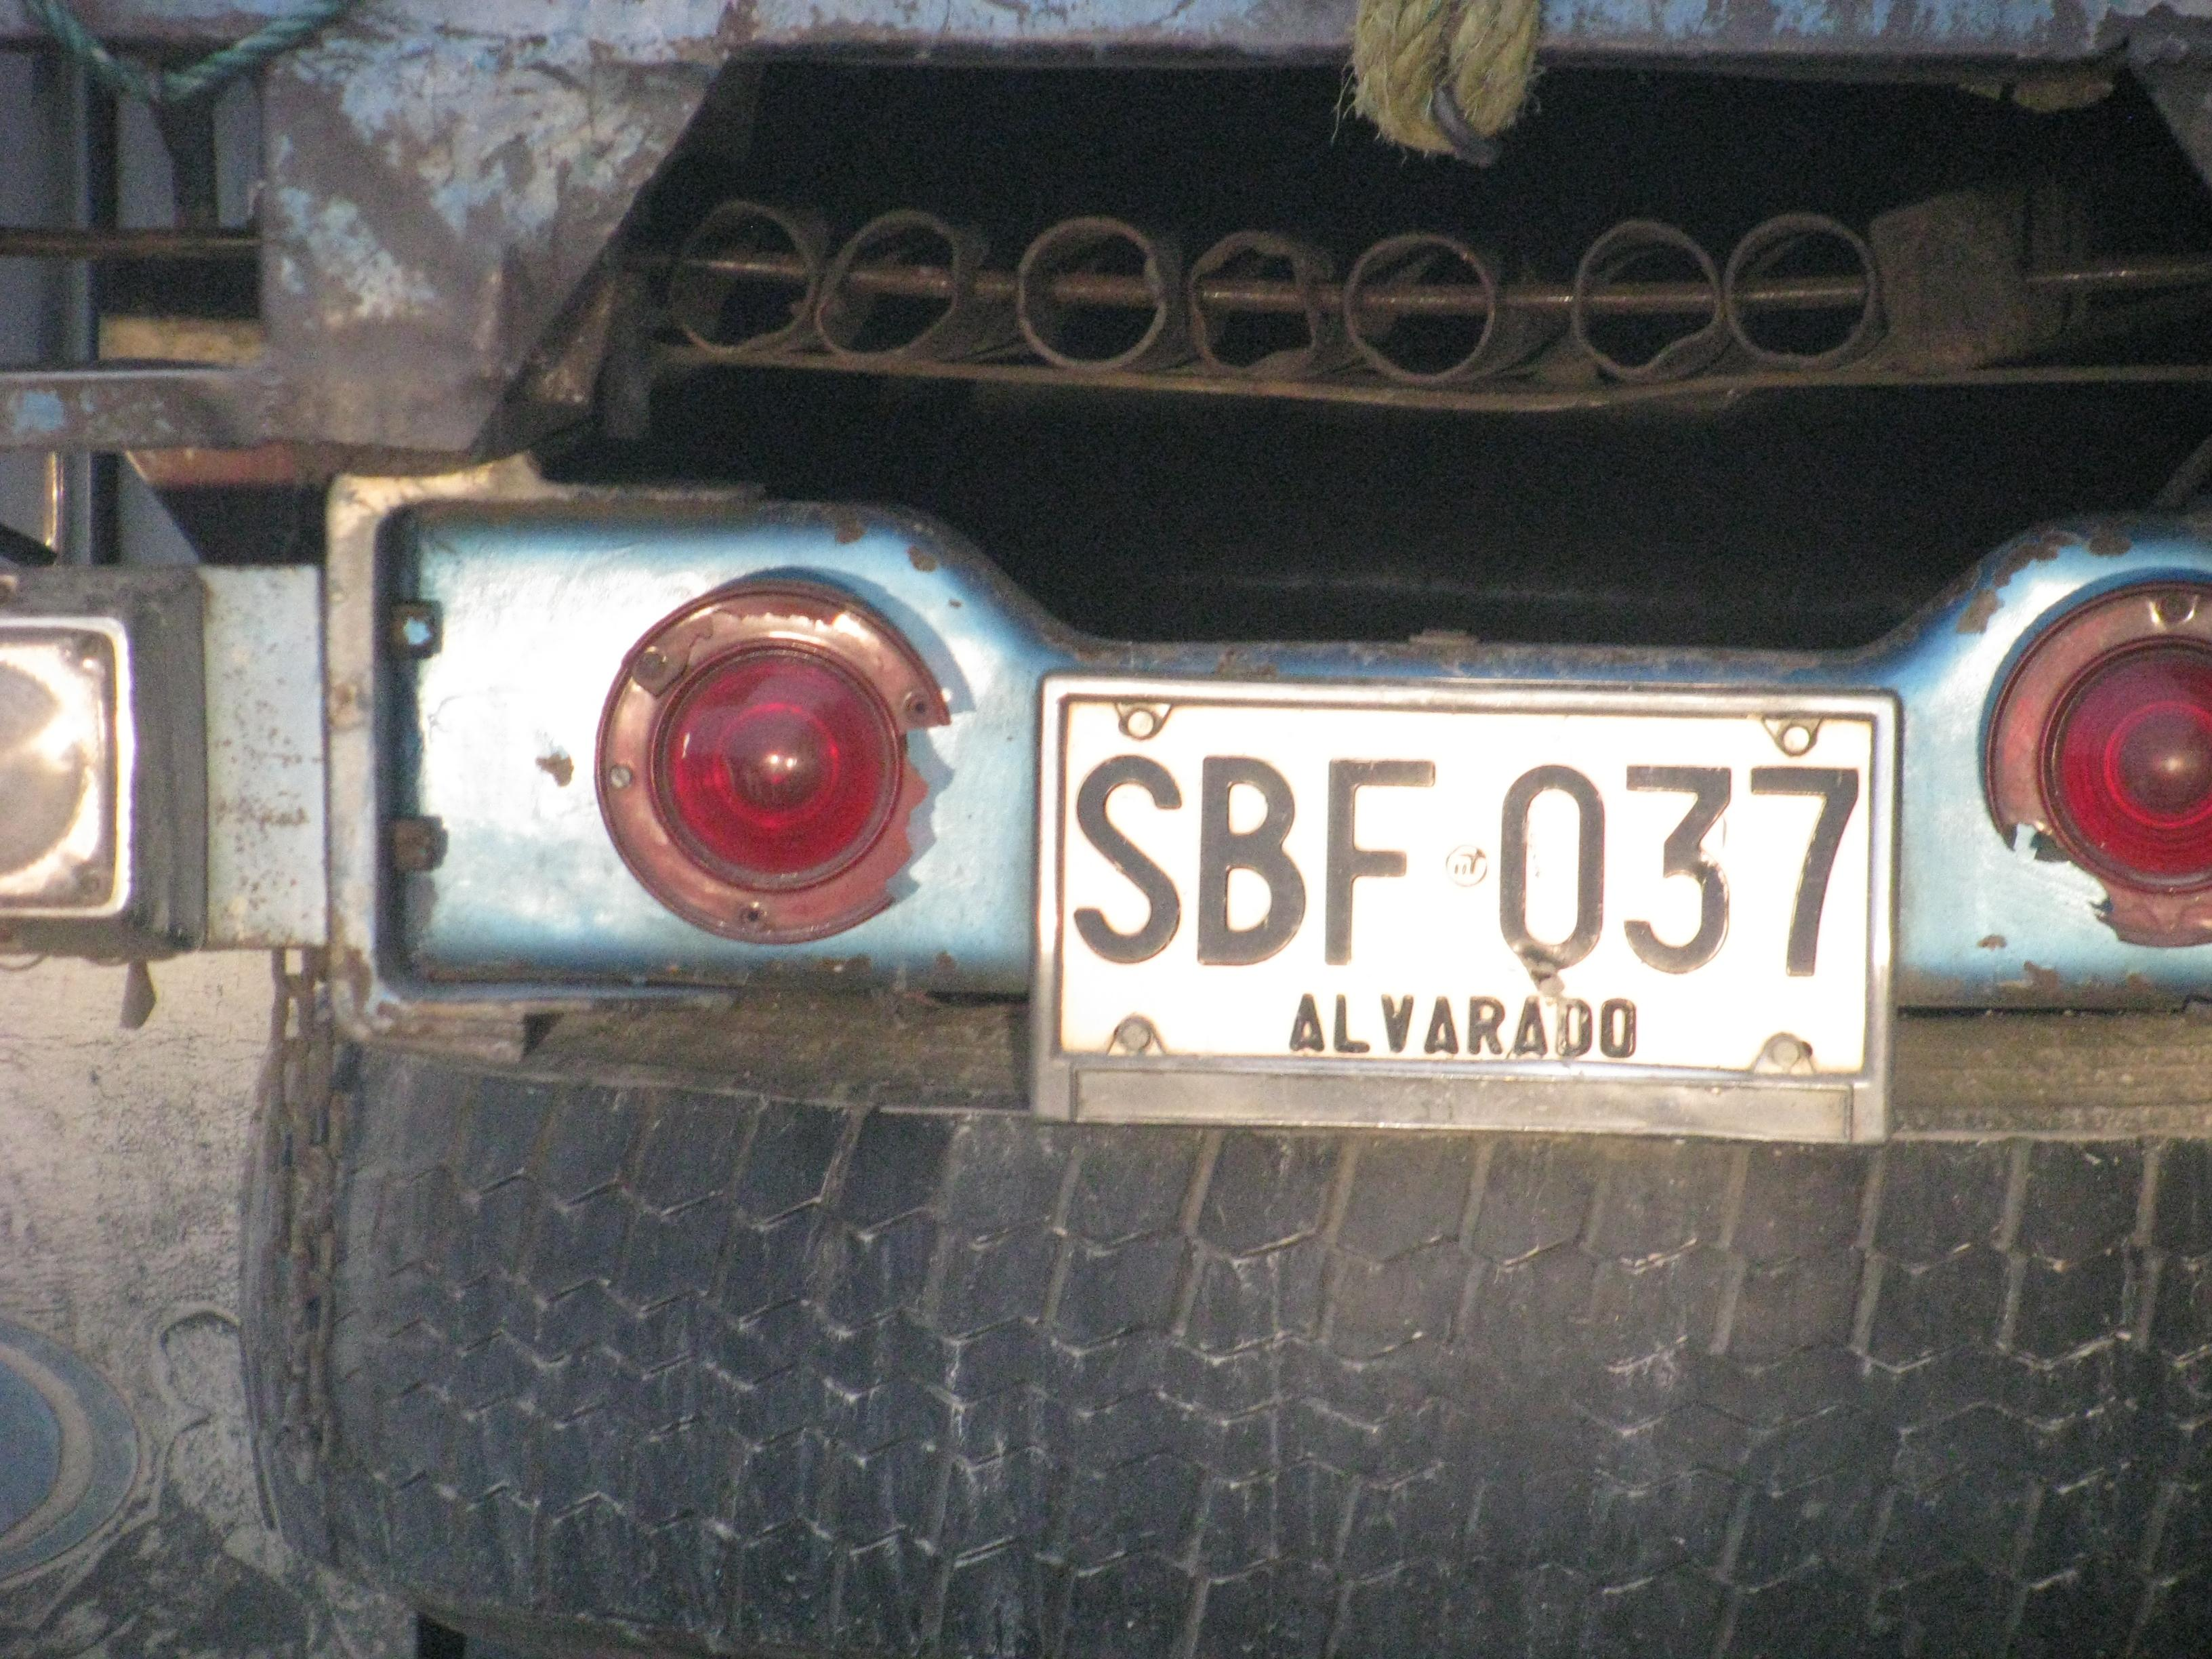placas: (1025, 660, 1910, 1095)
